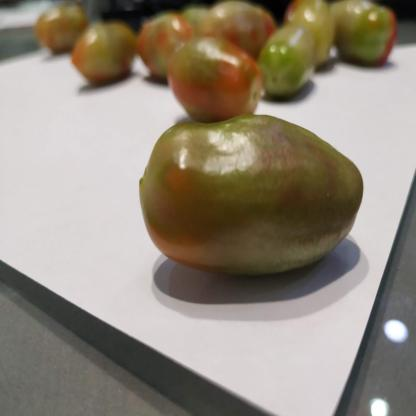T_F_R: (140, 115, 364, 275)
